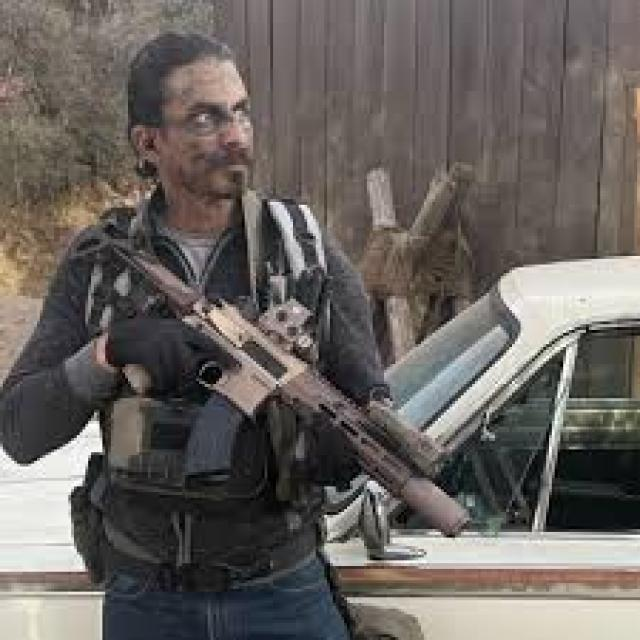weapon: (75, 216, 476, 554)
